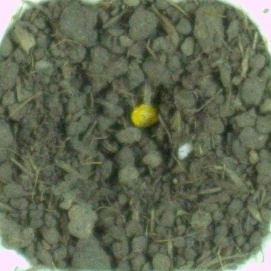pepper seed: (50, 38, 210, 167)
